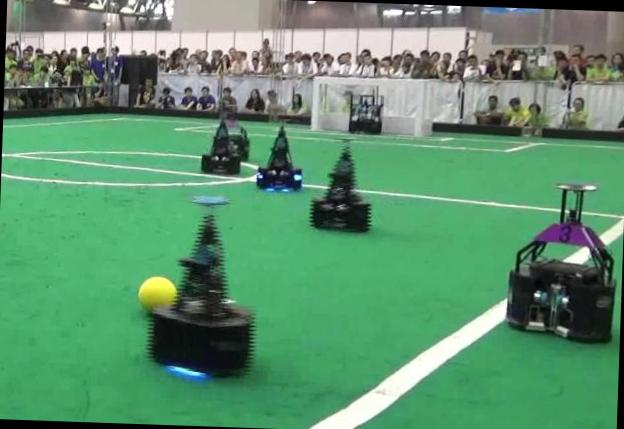ball: (138, 275, 176, 309)
goal: (414, 80, 427, 135), (311, 77, 320, 128)
robot: (507, 183, 615, 339), (149, 215, 253, 374), (310, 144, 369, 230), (256, 123, 302, 189), (201, 119, 241, 173), (349, 89, 384, 132), (226, 118, 250, 160)
